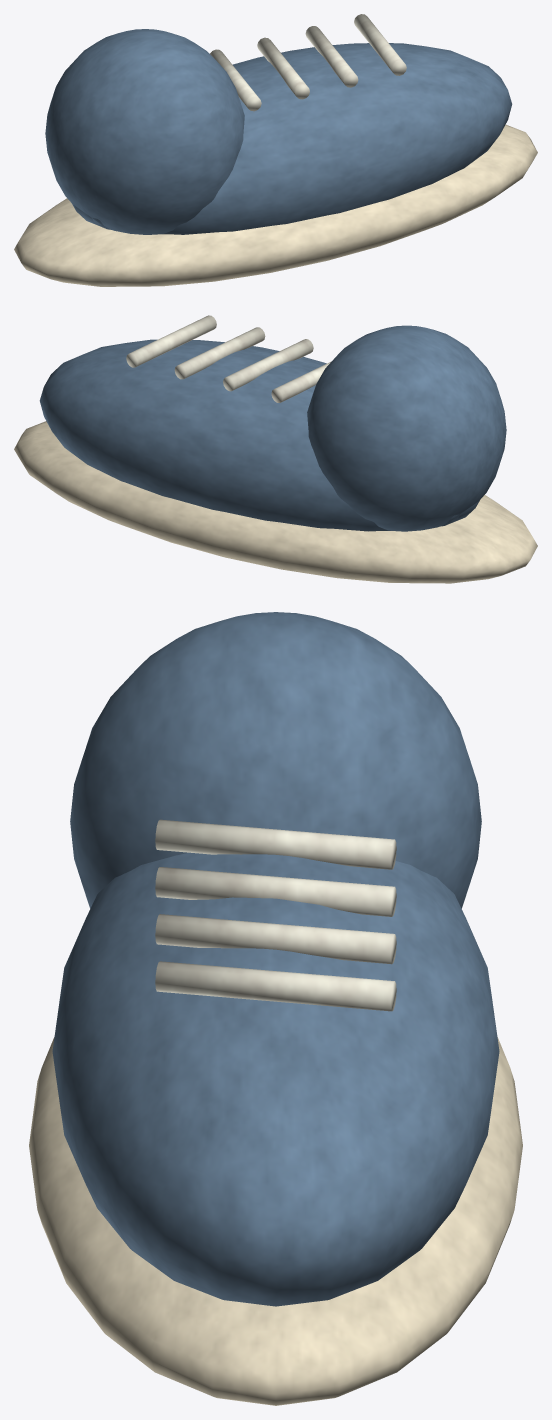
The model's file is shoe.glb.
3 views of the same model, one above another, from view 1: azimuth 30°, elevation 25°; view 2: azimuth 150°, elevation 25°; view 3: azimuth 270°, elevation 25° (orthographic). The views are drawn at different scales.
Parts seen in each view (by area): view 1: shoe_textured_mesh; view 2: shoe_textured_mesh; view 3: shoe_textured_mesh.
Part boxes in pixels (<box>): shoe_textured_mesh: <box>14,14,537,286</box>; shoe_textured_mesh: <box>14,315,537,583</box>; shoe_textured_mesh: <box>29,612,522,1405</box>.
Size of the model in its own units: 2 by 0.88 by 0.84.
Materials: 1 (1 with a texture image).
